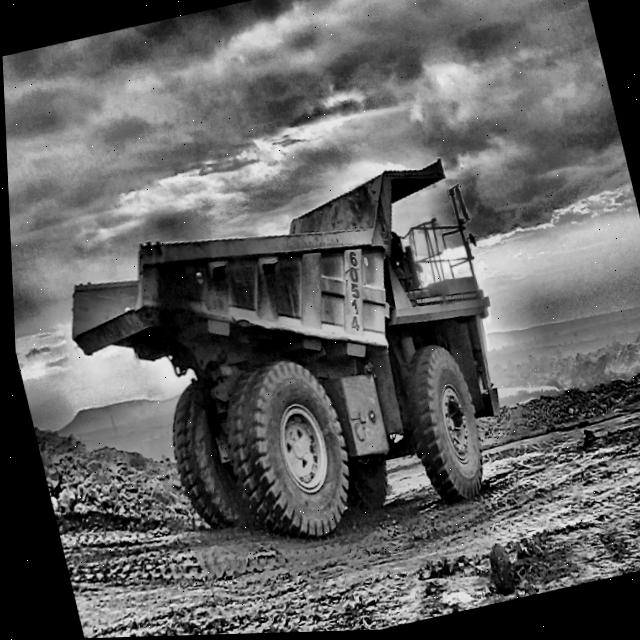dump_truck: (69, 162, 495, 536)
